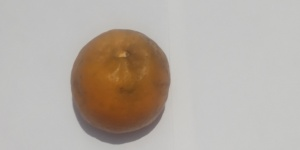BAD: (66, 25, 172, 137)
